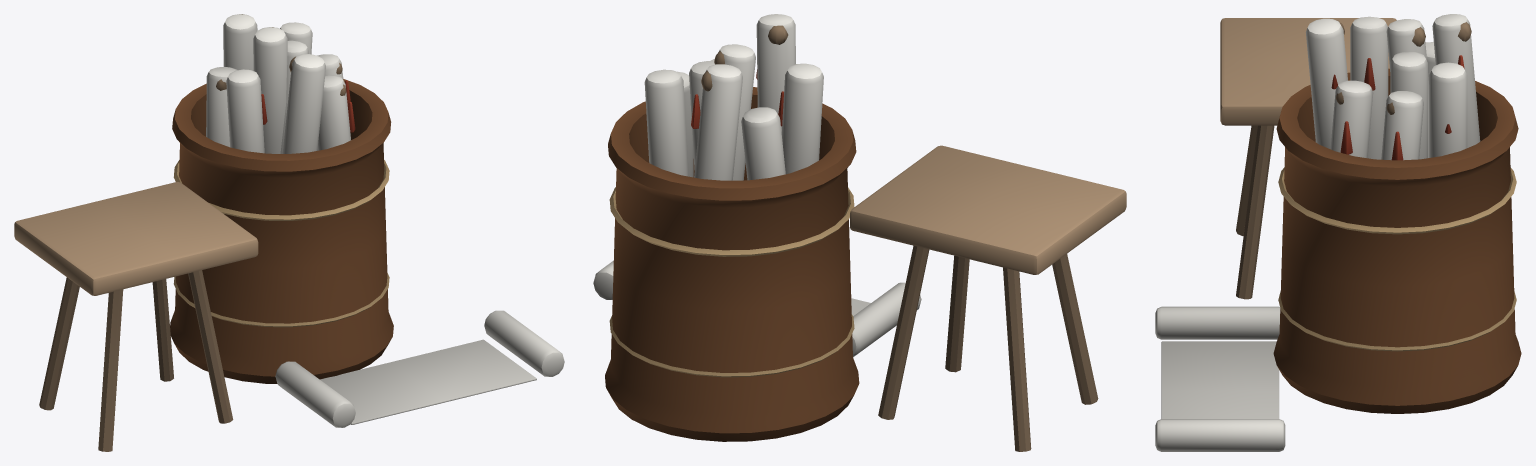
Rendered from obj_kit_capsa.glb.
3 views of the same model, side by side, from view 1: azimuth 30°, elevation 25°; view 2: azimuth 150°, elevation 25°; view 3: azimuth 270°, elevation 25° (orthographic). The views are drawn at different scales.
Parts seen in each view (by area): view 1: box, Cube.001, Cube, Cylinder.005, Cylinder.008, Cylinder.004, Cylinder.009, Cylinder.010, sl.003, sl.002, sl.001, Cylinder.006 (+7 smaller); view 2: box, Cube.001, Cylinder.002, Cylinder.004, Cylinder.001, sl.001, sl, Cylinder.005, Cylinder.003, sl.003, Cylinder.009, Torus.001 (+6 smaller); view 3: box, Cube.001, Cube, Cylinder.010, Cylinder.009, Cylinder.005, Cylinder.001, Cylinder.004, sl.002, Cylinder.002, Cylinder.006, Cylinder (+5 smaller).
Part boxes in pixels (x1,y1,x2,y2): box: [170, 79, 393, 383]; Cube.001: [14, 182, 258, 295]; Cube: [320, 339, 536, 424]; Cylinder.005: [282, 54, 325, 153]; Cylinder.008: [253, 27, 287, 153]; Cylinder.004: [226, 69, 264, 153]; Cylinder.009: [275, 361, 355, 427]; Cylinder.010: [484, 310, 564, 376]; sl.003: [98, 289, 123, 451]; sl.002: [188, 270, 233, 423]; sl.001: [39, 277, 79, 410]; Cylinder.006: [317, 75, 350, 150]; box: [605, 87, 859, 441]; Cube.001: [850, 145, 1126, 274]; Cylinder.002: [694, 64, 742, 180]; Cylinder.004: [781, 63, 823, 174]; Cylinder.001: [644, 69, 688, 176]; sl.001: [1003, 267, 1031, 451]; sl: [878, 245, 929, 419]; Cylinder.005: [756, 14, 795, 131]; Cylinder.003: [741, 107, 785, 180]; sl.003: [1052, 254, 1098, 404]; Cylinder.009: [852, 282, 921, 357]; Torus.001: [609, 187, 854, 256]; box: [1273, 68, 1521, 413]; Cube.001: [1220, 18, 1396, 125]; Cube: [1161, 341, 1279, 418]; Cylinder.010: [1155, 419, 1285, 451]; Cylinder.009: [1155, 306, 1280, 339]; Cylinder.005: [1305, 18, 1347, 149]; Cylinder.001: [1429, 62, 1467, 157]; Cylinder.004: [1350, 16, 1388, 159]; sl.002: [1236, 125, 1274, 299]; Cylinder.002: [1432, 14, 1480, 147]; Cylinder.006: [1330, 80, 1373, 158]; Cylinder: [1381, 91, 1423, 160].
Size of the model in its own units: 0.958 by 0.6336 by 0.62.
